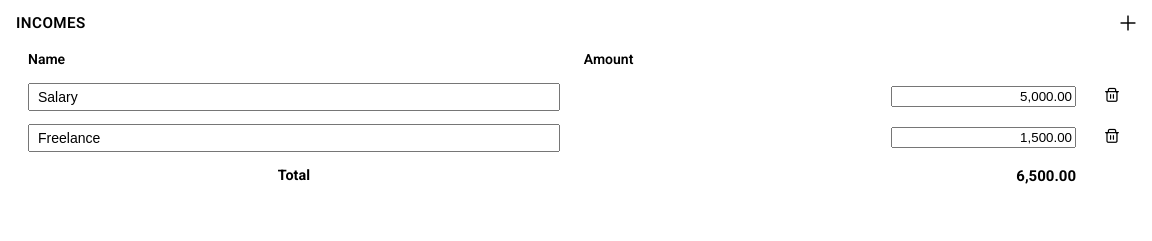
Test case: BudgetIncomeList › add income › adds a new income row when Add Income is clicked
Check: the number of rows with test id "income-row" is 2, box [16,77,1136,117]; [16,117,1136,158]
Click the button with test id "add-income-btn" at x=1128, y=23, box [1120,14,1136,33]
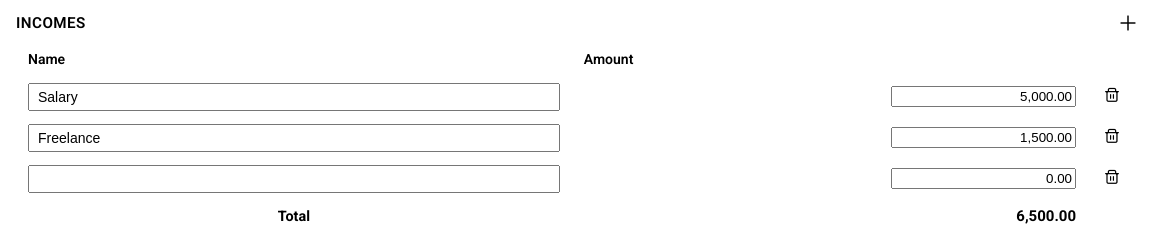
Check: the number of rows with test id "income-row" is 3, box [16,77,1136,117]; [16,117,1136,158]; [16,158,1136,199]
